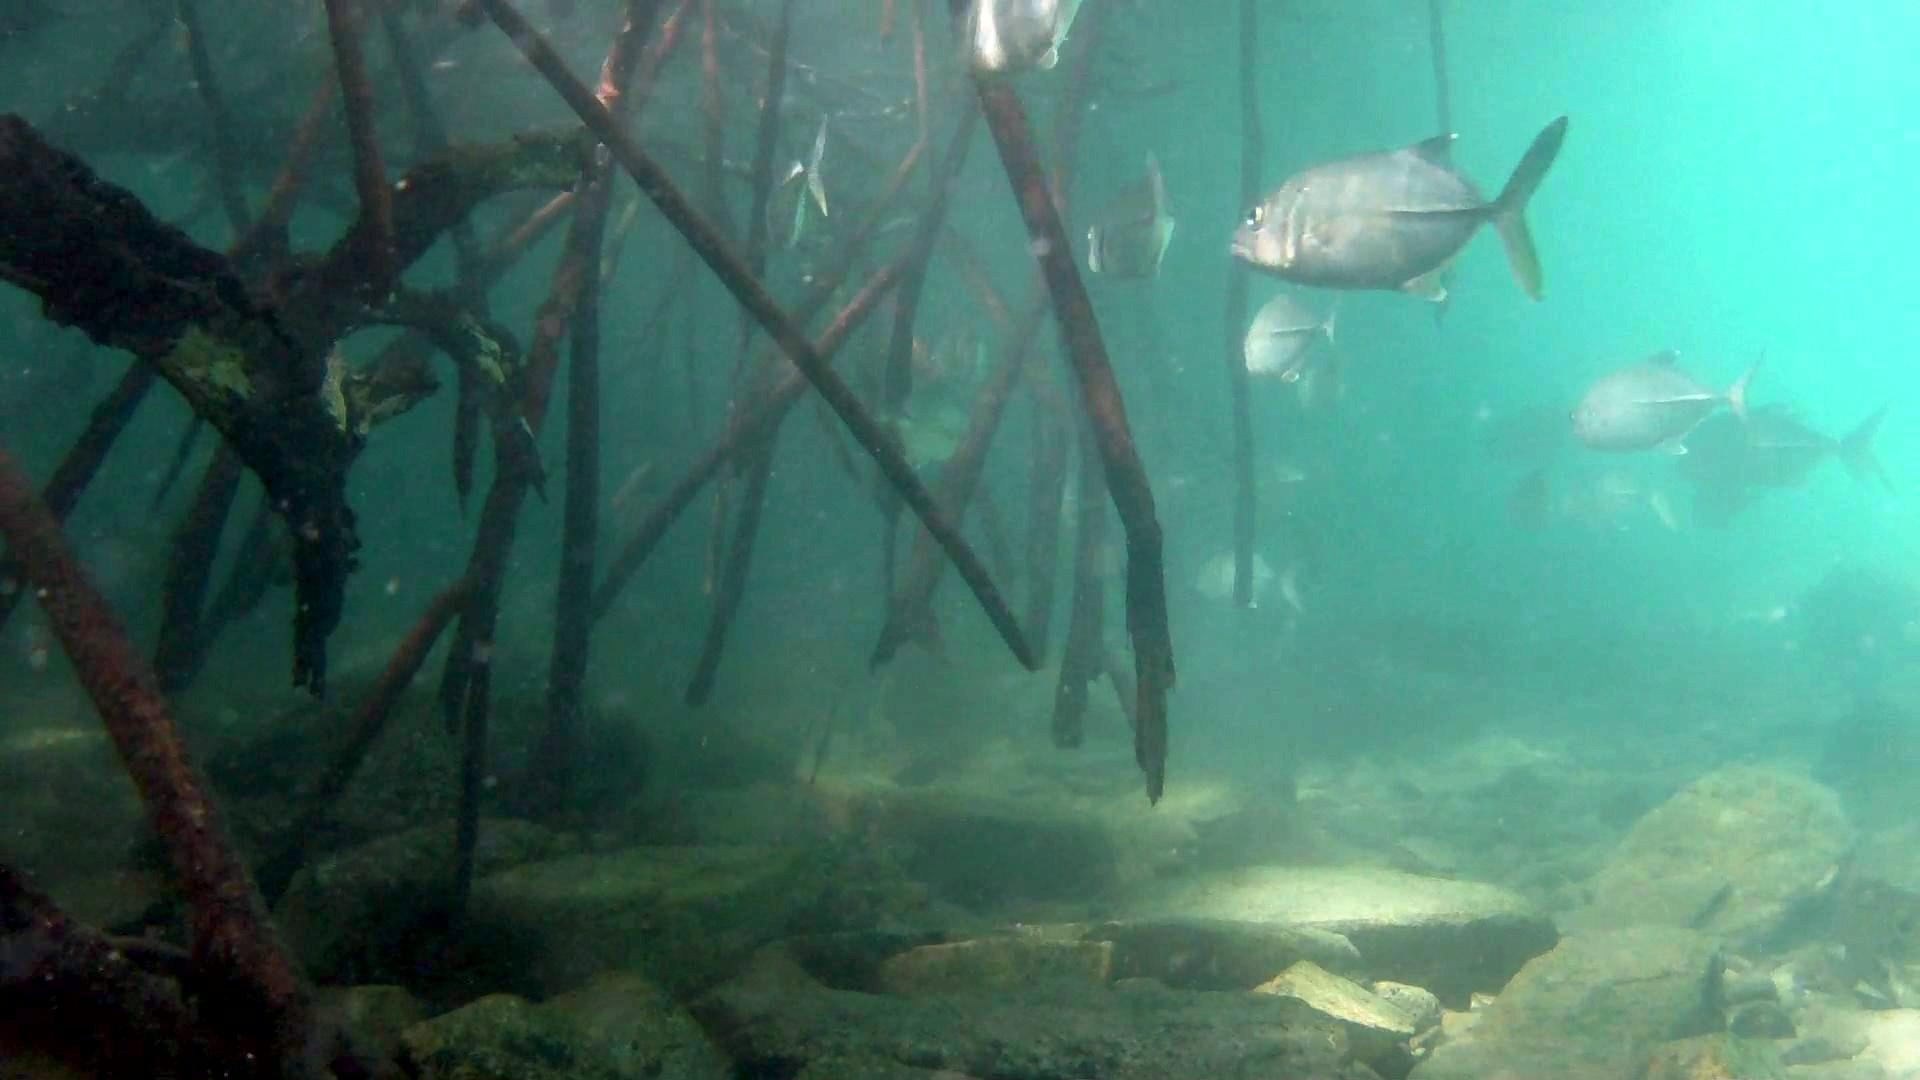caranx: (1216, 100, 1581, 307)
